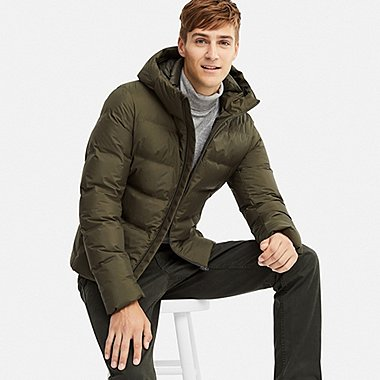NOTSAFE: (134, 1, 241, 236)
